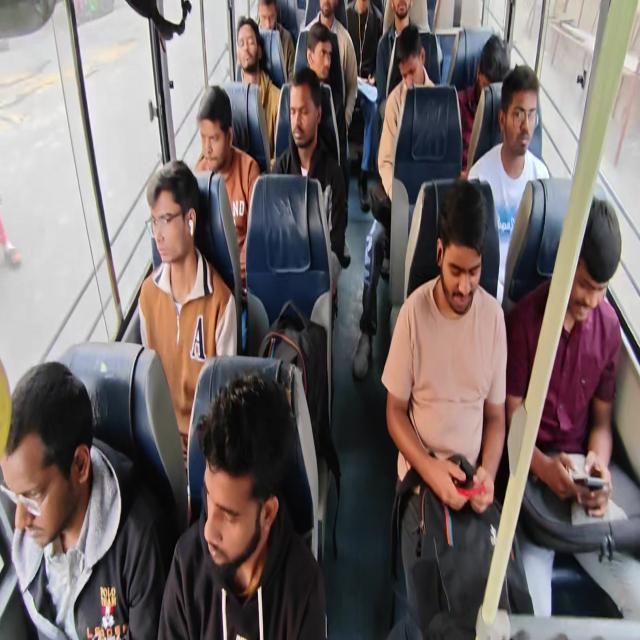person: (422, 184, 516, 486), (1, 361, 121, 594), (183, 373, 283, 613), (546, 190, 624, 457), (147, 169, 198, 300), (495, 77, 540, 184), (286, 82, 324, 183), (198, 92, 234, 192), (481, 37, 522, 121), (348, 0, 387, 74), (237, 8, 265, 96), (309, 38, 337, 103), (402, 41, 422, 117), (390, 0, 420, 35), (314, 0, 342, 36), (256, 0, 280, 34)
